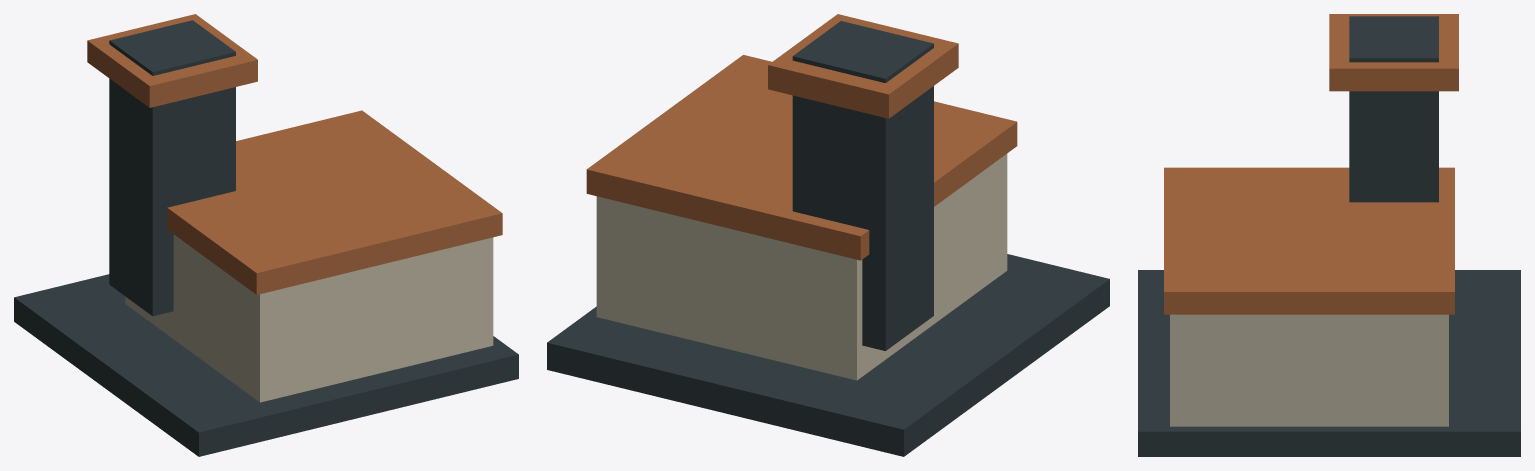
Rendered from mine-lod2.1a361f86d1f9.glb.
The picture shows the model from 3 angles, left to right: view 1: azimuth 30°, elevation 25°; view 2: azimuth 150°, elevation 25°; view 3: azimuth 270°, elevation 25°; orthographic projection. The views are drawn at different scales.
Parts seen in each view (by area): view 1: body; view 2: body; view 3: body.
Boxes of the visible parts, x1=… form: body: x1=14, y1=14, x2=518, y2=456; body: x1=547, y1=14, x2=1109, y2=456; body: x1=1138, y1=14, x2=1520, y2=456.
Bounding box in the file's own units: 3.84 × 3.4 × 3.84.
